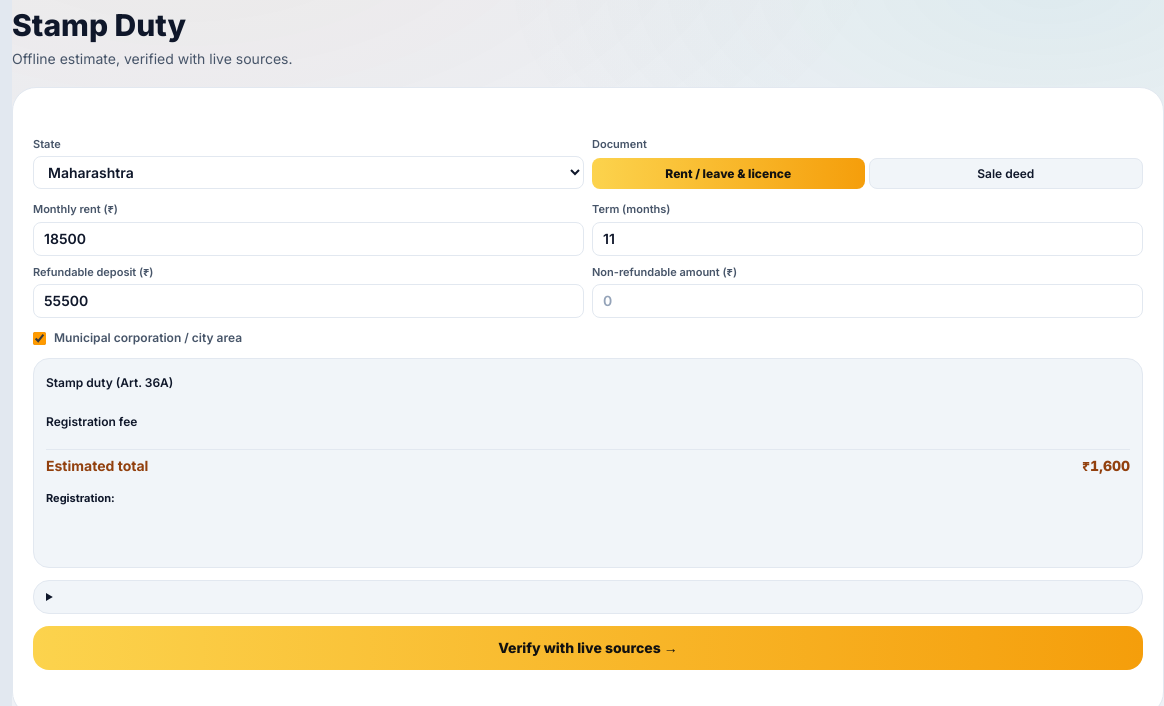
Test: Roadmap features › estimates Maharashtra leave & licence duty offline and verifies it live
Expected: the text "₹1,600" is shown, [1057,449,1130,482]
Click the button "Verify with live sources →".
click(588, 648)  # box [33,626,1143,670]
(page scrolled)
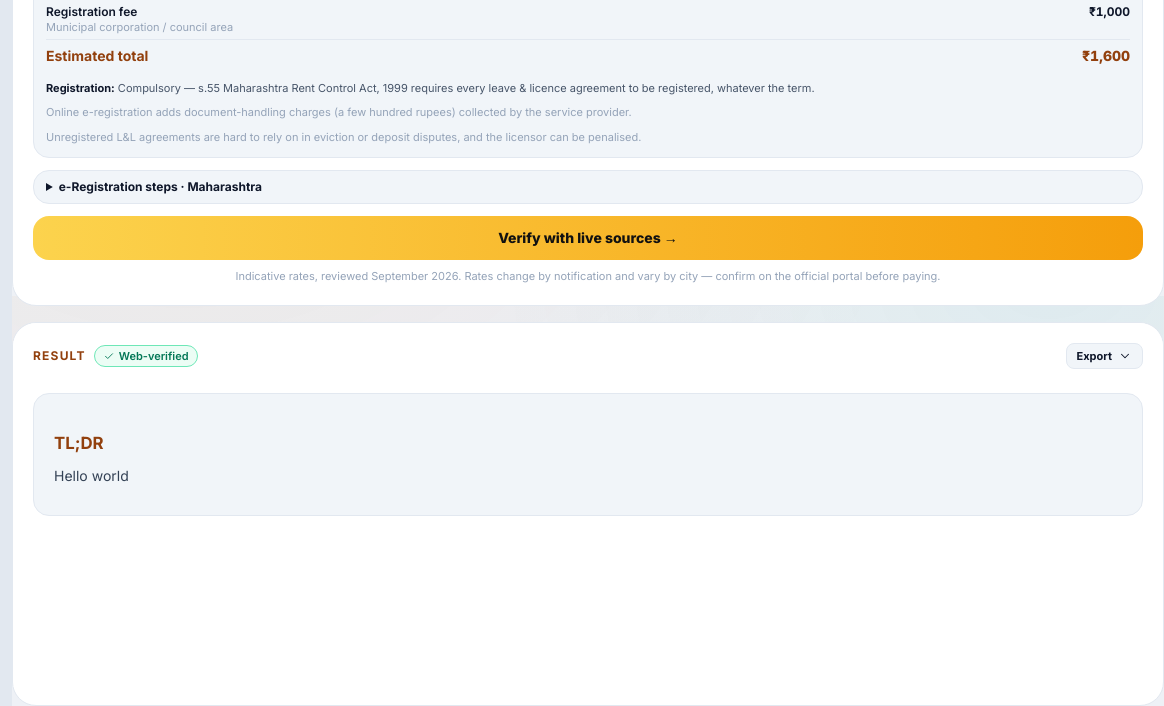
Expected: the heading "TL;DR" is shown, [54,433,104,453]
